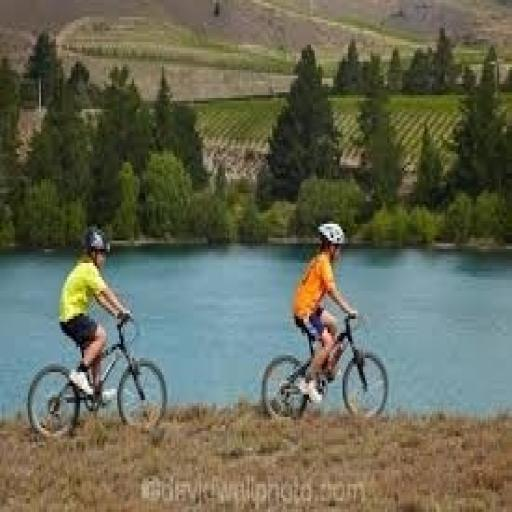cycling: (56, 224, 134, 406), (291, 218, 361, 406)
